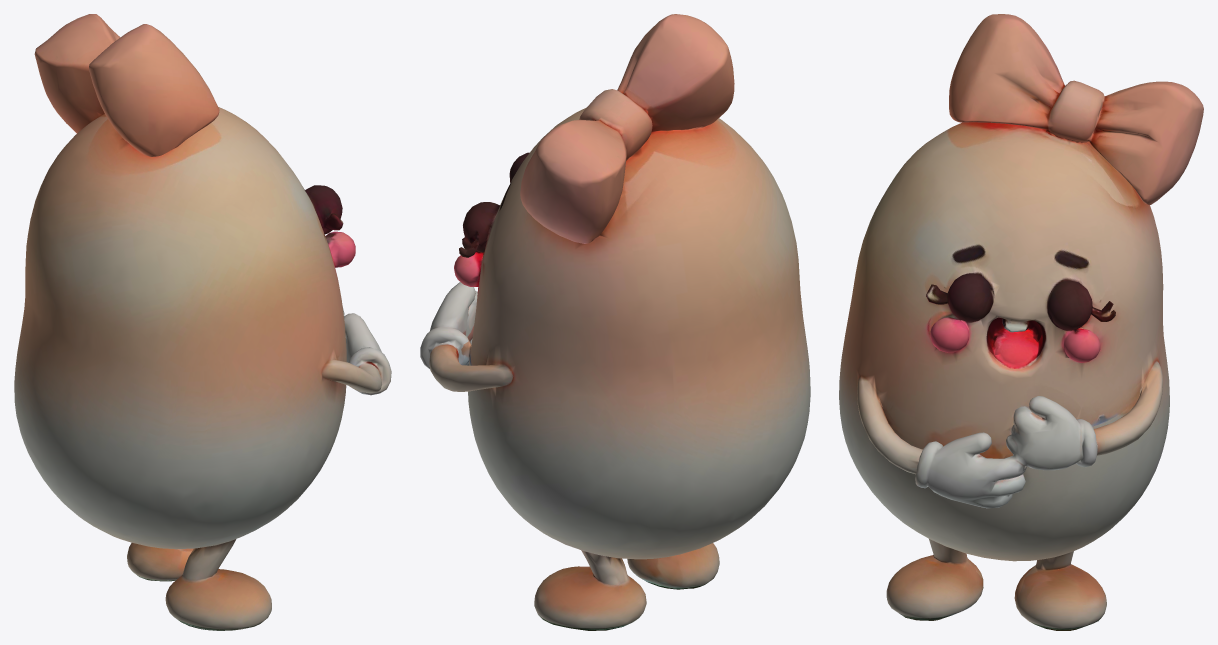
3 views of the same model, side by side, from view 1: azimuth 30°, elevation 25°; view 2: azimuth 150°, elevation 25°; view 3: azimuth 270°, elevation 25° (orthographic). The views are drawn at different scales.
Visible parts, largest first — view 1: tripo_node_9899cafa-219a-48af-a276-f54adfb3af77; view 2: tripo_node_9899cafa-219a-48af-a276-f54adfb3af77; view 3: tripo_node_9899cafa-219a-48af-a276-f54adfb3af77.
Part boxes in pixels (box(x1,y1,x2,y2)): tripo_node_9899cafa-219a-48af-a276-f54adfb3af77: box(14, 14, 391, 630); tripo_node_9899cafa-219a-48af-a276-f54adfb3af77: box(420, 14, 810, 630); tripo_node_9899cafa-219a-48af-a276-f54adfb3af77: box(839, 14, 1203, 630).
Bounding box in the file's own units: 0.5897 × 0.9999 × 0.5821.
Materials: 1 (1 with a texture image).
